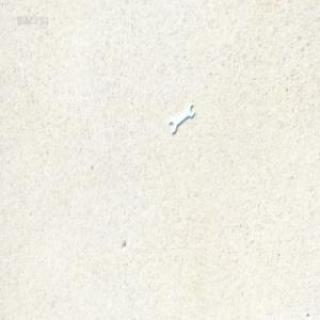Wrenchtrack_idkeyframe: (168, 103, 194, 135)
